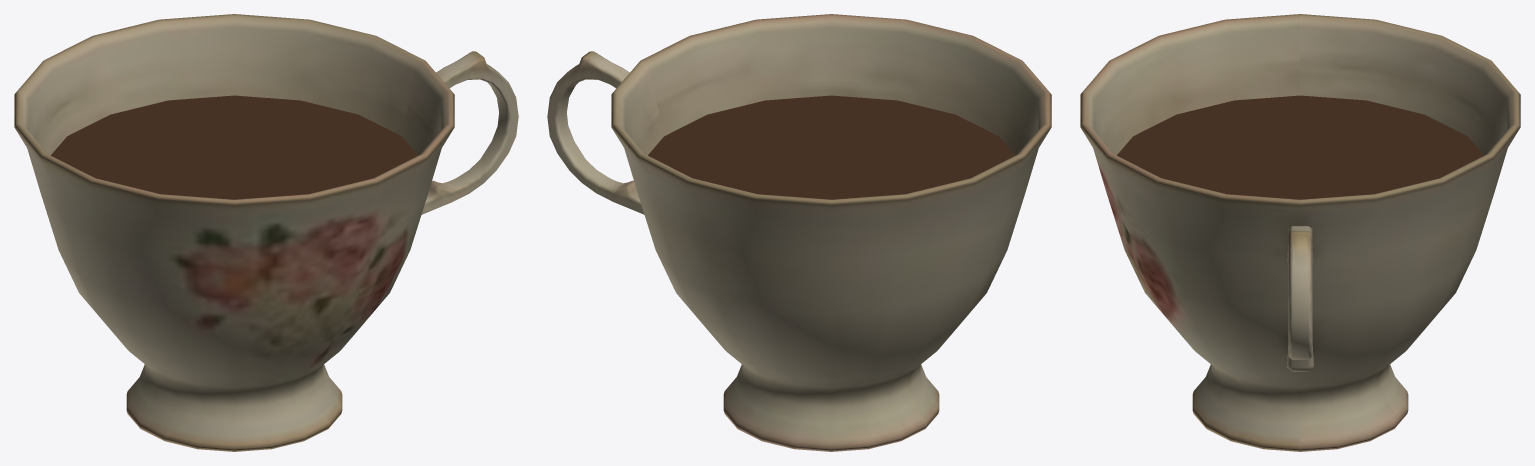
Rendered from SM_teacup_tea_a94cdb.glb.
3 views of the same model, side by side, from view 1: azimuth 30°, elevation 25°; view 2: azimuth 150°, elevation 25°; view 3: azimuth 270°, elevation 25° (orthographic).
Size of the model in its own units: 0.1024 by 0.0617 by 0.0824.
2 materials, 2 textured.
